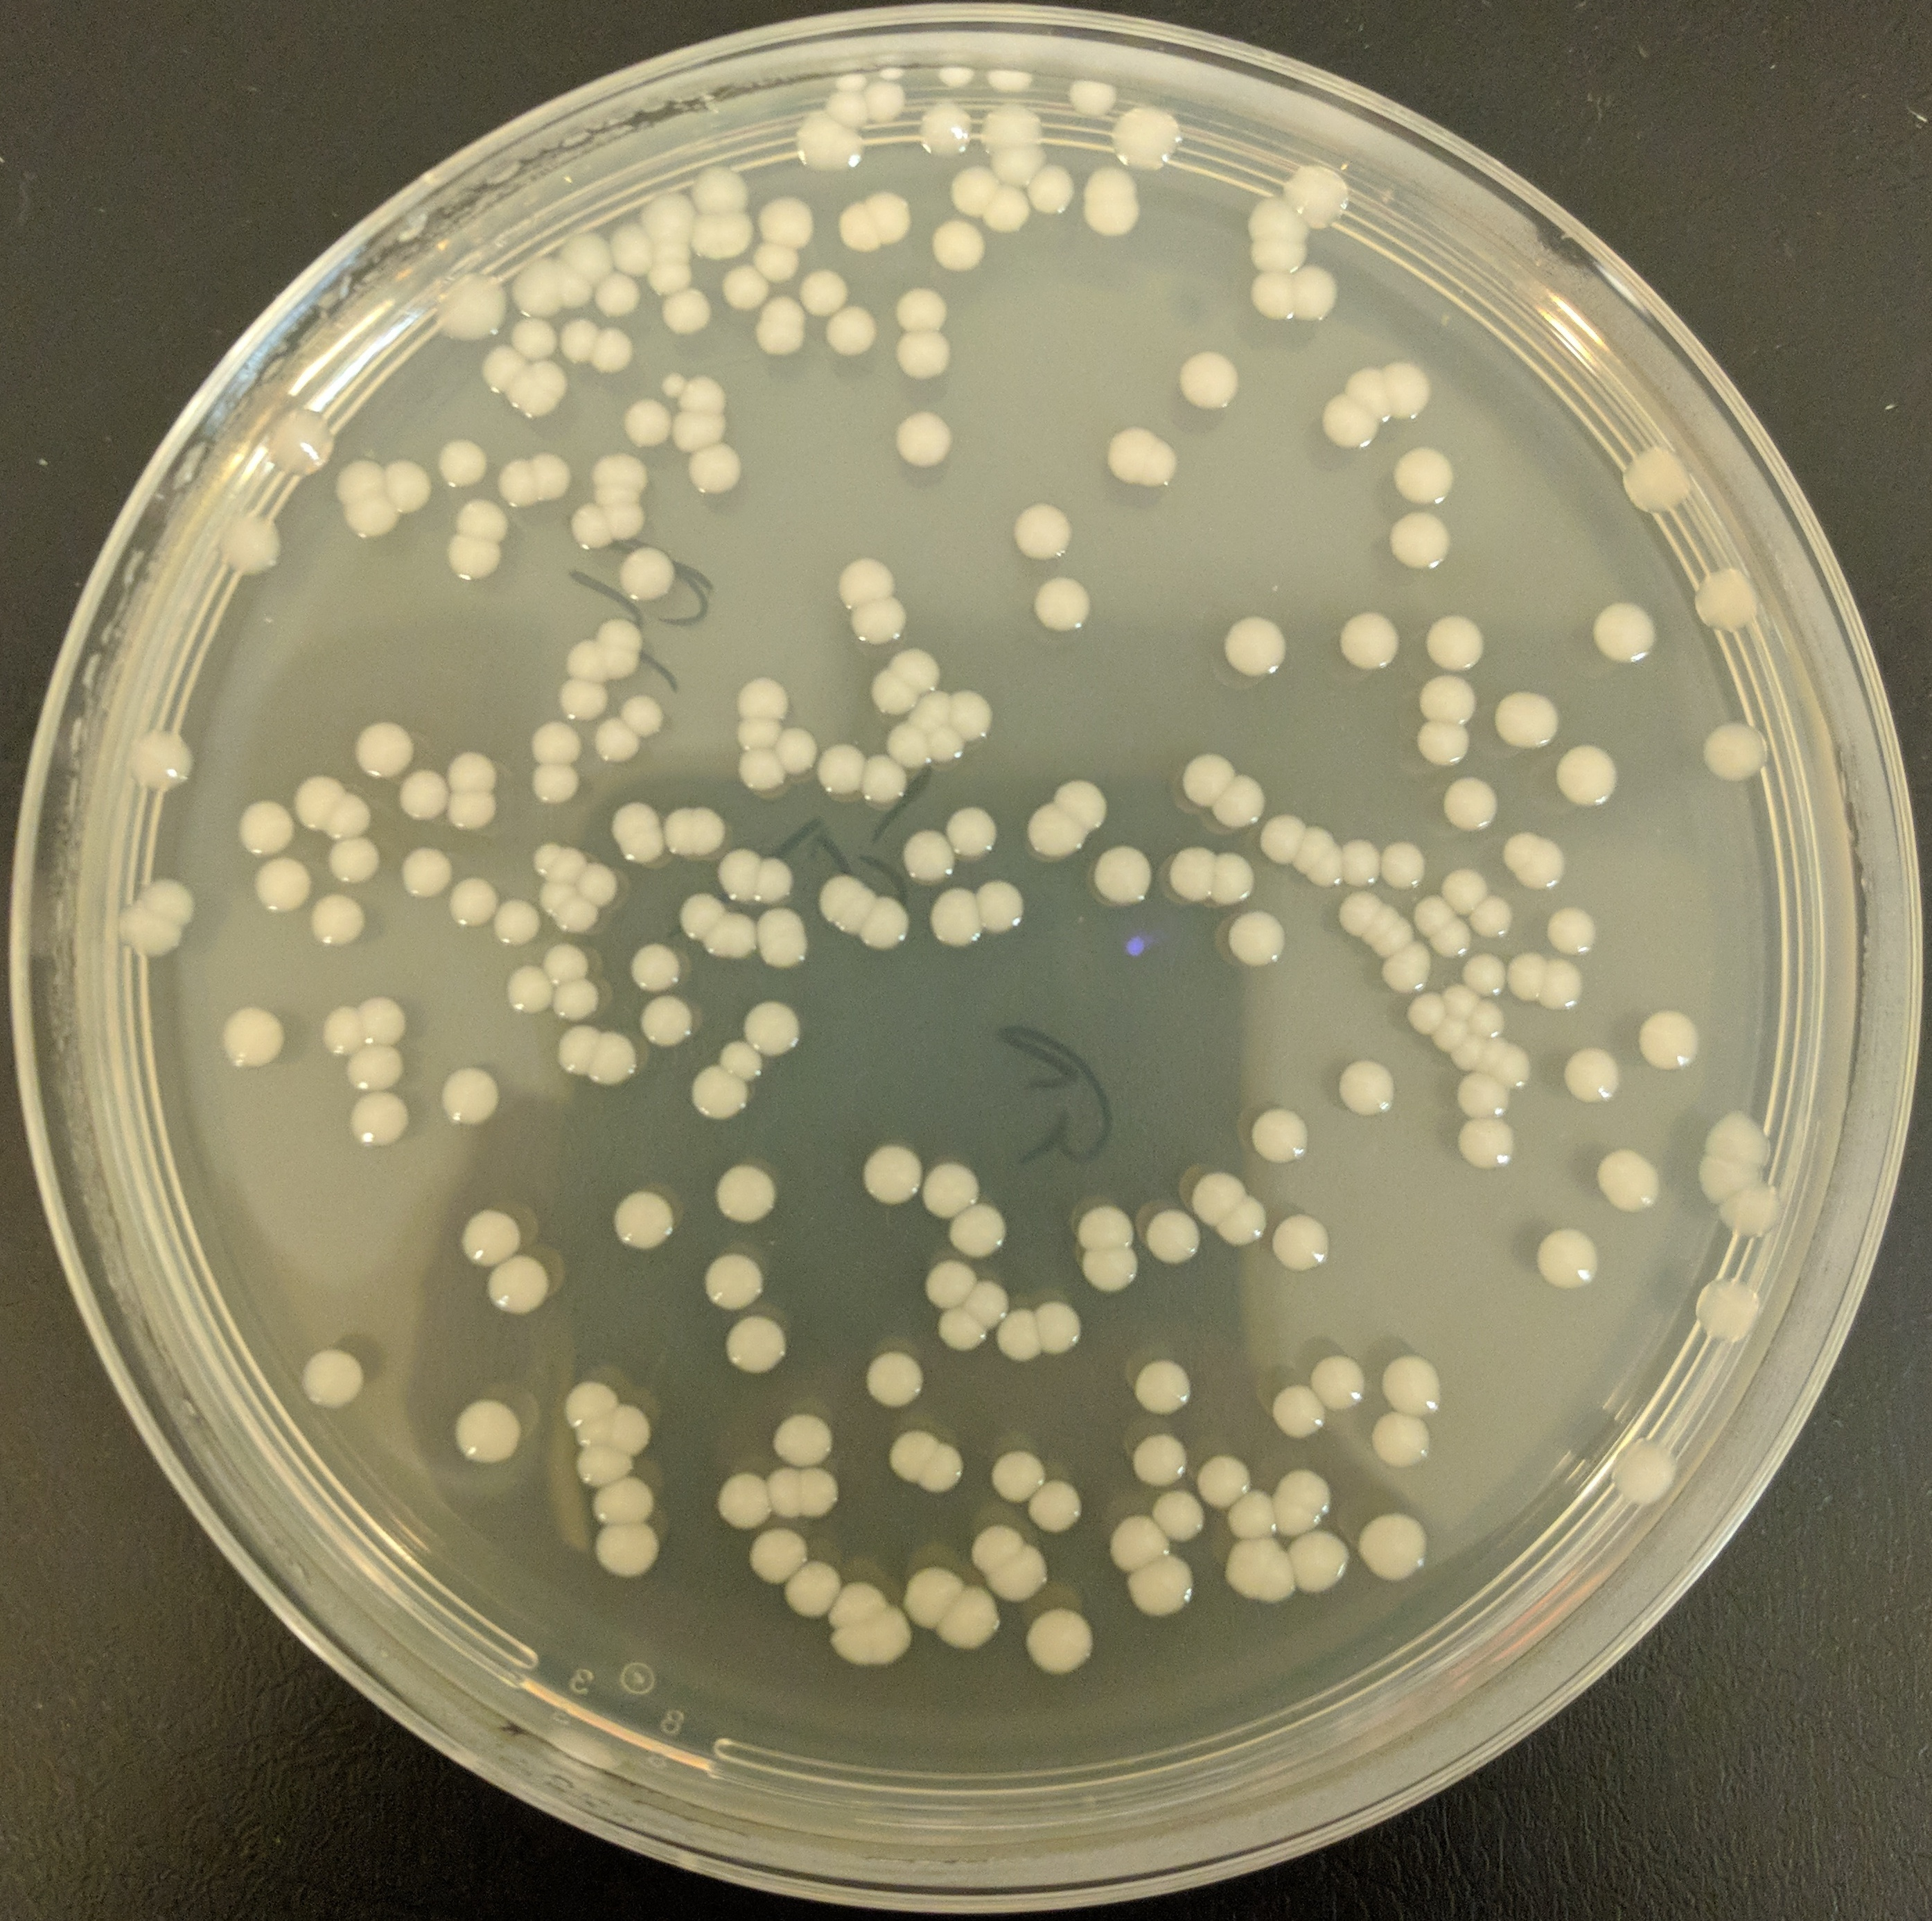sp20: (1615, 435, 1701, 519), (1687, 1270, 1772, 1356), (1014, 1604, 1103, 1685), (442, 1395, 535, 1472), (213, 999, 301, 1077), (1698, 712, 1777, 793), (1696, 1101, 1788, 1170), (1684, 563, 1765, 640), (1589, 1140, 1665, 1223), (1603, 1430, 1679, 1513), (294, 1346, 375, 1421), (1348, 1506, 1425, 1583), (697, 1249, 776, 1323), (702, 1159, 790, 1224), (1175, 345, 1248, 424), (1107, 107, 1188, 178), (584, 1520, 669, 1587), (1121, 1545, 1197, 1618), (1631, 1003, 1709, 1075), (1265, 1207, 1337, 1284), (1286, 1522, 1358, 1599), (894, 1564, 971, 1636), (480, 1249, 558, 1321), (1219, 610, 1292, 686), (123, 730, 202, 799), (783, 114, 871, 176), (454, 1202, 530, 1272), (1330, 605, 1404, 676), (431, 276, 505, 347), (1585, 595, 1659, 665), (604, 1187, 679, 1256), (677, 206, 760, 267), (1374, 1348, 1445, 1420), (1286, 162, 1355, 236), (1084, 843, 1158, 911), (933, 1580, 1001, 1654), (1548, 741, 1615, 816), (343, 718, 419, 785), (857, 1349, 934, 1414), (1534, 1223, 1603, 1295), (918, 883, 992, 950), (1492, 690, 1570, 753), (853, 1145, 929, 1209), (936, 1205, 1015, 1265), (1432, 767, 1501, 836), (1012, 498, 1079, 568), (1383, 510, 1455, 575), (1126, 1356, 1198, 1421), (343, 1085, 415, 1150), (1383, 445, 1459, 507), (1362, 1406, 1438, 1467), (435, 1061, 501, 1129), (1221, 908, 1292, 973), (1332, 1055, 1402, 1121), (109, 897, 181, 960), (1244, 1107, 1318, 1168), (894, 412, 962, 477), (1174, 746, 1242, 811), (720, 1312, 790, 1376), (264, 410, 329, 477), (1260, 1383, 1327, 1448), (1420, 614, 1490, 676), (216, 514, 287, 575), (1140, 1207, 1211, 1268), (704, 1471, 774, 1532), (1710, 1184, 1789, 1238), (915, 97, 975, 169), (1448, 1068, 1520, 1128), (1452, 1114, 1526, 1172), (977, 1444, 1050, 1502), (764, 1413, 838, 1471), (927, 213, 992, 278), (1022, 800, 1087, 866), (1562, 1045, 1628, 1110), (287, 771, 352, 836), (684, 1063, 751, 1126), (377, 457, 438, 526), (1103, 1511, 1172, 1573), (915, 1159, 985, 1219), (774, 1562, 845, 1622), (846, 593, 918, 651), (1226, 1534, 1284, 1606), (554, 1377, 626, 1435), (581, 1478, 660, 1530), (1385, 354, 1439, 429), (306, 997, 371, 1061), (885, 281, 952, 343), (616, 545, 683, 607), (1035, 573, 1096, 640), (1314, 394, 1381, 456), (1184, 1168, 1251, 1230), (623, 939, 690, 1001), (253, 853, 313, 922), (836, 554, 901, 616), (1047, 772, 1112, 834), (971, 876, 1036, 938), (1309, 1351, 1371, 1416), (231, 797, 296, 858), (741, 996, 808, 1055), (822, 1580, 892, 1636), (512, 259, 574, 322), (553, 227, 614, 290), (757, 195, 820, 257), (1288, 257, 1341, 331), (1207, 771, 1269, 834), (1691, 1152, 1770, 1202), (1193, 1451, 1256, 1513), (991, 1304, 1050, 1369), (1276, 1460, 1341, 1520), (1265, 1478, 1325, 1543), (811, 739, 871, 804), (1244, 186, 1311, 245), (683, 164, 753, 218), (1328, 830, 1383, 901), (746, 1523, 808, 1585), (496, 962, 560, 1022), (611, 396, 676, 454), (1413, 716, 1478, 774), (1160, 846, 1225, 904), (665, 403, 734, 457), (684, 440, 744, 501), (1024, 162, 1084, 223), (306, 892, 366, 953), (1070, 1245, 1142, 1296), (962, 1522, 1035, 1573), (333, 457, 396, 515), (633, 994, 697, 1052), (391, 765, 454, 823), (1365, 938, 1431, 994), (985, 1550, 1050, 1606), (1416, 672, 1483, 727), (338, 500, 408, 551), (866, 1604, 917, 1675), (1242, 266, 1302, 325), (1029, 1476, 1087, 1538), (894, 827, 957, 883), (324, 834, 387, 890), (1070, 1200, 1135, 1254), (1242, 229, 1309, 281), (1124, 1435, 1191, 1488), (940, 804, 999, 862), (734, 744, 794, 802), (941, 165, 1003, 222), (1258, 1545, 1307, 1615), (700, 906, 757, 968), (605, 222, 660, 285), (135, 873, 199, 927), (889, 329, 954, 382), (947, 681, 999, 746), (980, 100, 1047, 151), (911, 1261, 978, 1312), (1543, 902, 1601, 960), (487, 894, 545, 952), (862, 186, 917, 248), (442, 533, 503, 588), (1033, 1300, 1087, 1362), (790, 1467, 845, 1529), (1103, 424, 1156, 487), (359, 990, 412, 1054), (574, 1443, 639, 1494), (1212, 1196, 1270, 1253), (551, 1022, 607, 1080), (396, 846, 454, 902), (1223, 1485, 1283, 1539), (1538, 957, 1589, 1020), (642, 190, 697, 248), (751, 899, 809, 953), (454, 494, 514, 547), (862, 892, 910, 957), (825, 301, 878, 359), (885, 1425, 938, 1483), (672, 883, 725, 941), (1080, 199, 1156, 239), (343, 1041, 403, 1092), (326, 786, 377, 846), (503, 313, 565, 362), (545, 978, 607, 1027), (857, 751, 911, 806), (744, 855, 799, 909), (530, 716, 584, 771), (435, 436, 491, 489), (931, 1305, 987, 1358), (797, 267, 848, 325), (1346, 366, 1395, 426), (730, 672, 790, 721), (611, 1395, 655, 1462), (989, 135, 1050, 183), (604, 799, 667, 844), (984, 181, 1036, 236), (1084, 158, 1137, 213), (1378, 841, 1431, 895), (838, 883, 890, 938), (528, 756, 582, 809), (760, 1464, 804, 1529), (591, 271, 644, 324), (714, 1034, 769, 1085), (445, 876, 496, 931), (658, 290, 714, 340), (720, 260, 776, 310), (836, 204, 885, 260), (1501, 950, 1550, 1006), (586, 712, 642, 762), (595, 1031, 642, 1089), (778, 721, 822, 783), (493, 459, 544, 512), (1290, 820, 1341, 873), (915, 1446, 968, 1497), (882, 721, 936, 771), (811, 866, 860, 920), (1517, 841, 1573, 888), (1439, 864, 1487, 920), (1457, 952, 1513, 999), (714, 841, 757, 904), (442, 788, 498, 836), (1256, 807, 1302, 866), (727, 714, 787, 758), (1207, 853, 1258, 904), (753, 239, 806, 289), (565, 498, 614, 551), (556, 668, 605, 721), (864, 663, 917, 712), (832, 1617, 882, 1669), (574, 862, 626, 911), (1147, 1494, 1202, 1541), (1494, 825, 1543, 876), (1402, 887, 1452, 938), (589, 324, 637, 376), (1402, 989, 1450, 1041), (556, 637, 611, 683), (660, 799, 697, 866), (443, 748, 501, 790), (966, 1277, 1015, 1326), (554, 888, 604, 938), (1066, 70, 1117, 118), (540, 943, 591, 990), (887, 647, 940, 693), (1355, 899, 1401, 952), (924, 718, 970, 771), (684, 804, 728, 858), (982, 62, 1043, 100), (676, 373, 735, 412), (1332, 888, 1381, 934), (556, 317, 600, 368), (1142, 443, 1184, 496), (816, 90, 871, 130), (593, 454, 649, 493), (1300, 846, 1348, 892), (1425, 913, 1471, 960), (1466, 1001, 1515, 1045), (1425, 1013, 1469, 1063), (477, 341, 519, 392), (616, 827, 667, 869), (751, 934, 806, 973), (864, 77, 908, 125), (1374, 918, 1416, 968), (531, 454, 570, 507), (604, 500, 649, 544), (1494, 1047, 1538, 1092), (1452, 1031, 1496, 1077), (1467, 897, 1515, 939), (623, 690, 665, 737), (753, 294, 806, 331), (591, 616, 644, 653), (565, 1416, 618, 1453), (549, 846, 591, 890), (588, 480, 646, 512), (1436, 983, 1487, 1019), (911, 690, 954, 732), (649, 259, 695, 297), (530, 355, 575, 394), (501, 371, 540, 415), (538, 876, 577, 920), (757, 331, 808, 362), (598, 644, 644, 679), (558, 271, 596, 310), (528, 839, 567, 878), (934, 60, 977, 91), (1480, 1033, 1511, 1075), (832, 69, 876, 99), (517, 387, 558, 419), (649, 239, 692, 267), (660, 371, 686, 401), (873, 63, 908, 83)
